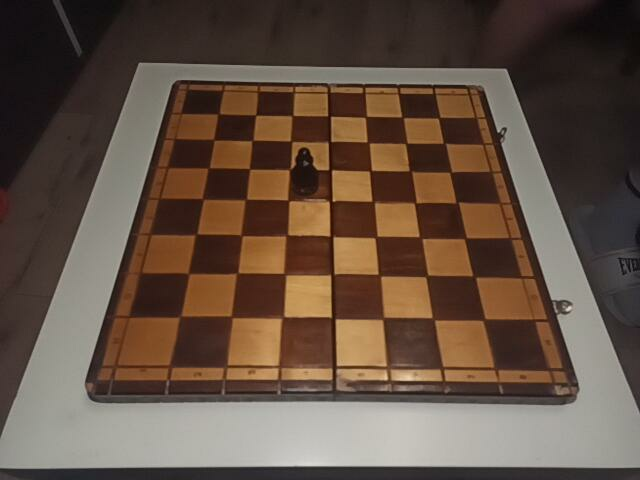B-Pawn: (290, 148, 319, 196)
